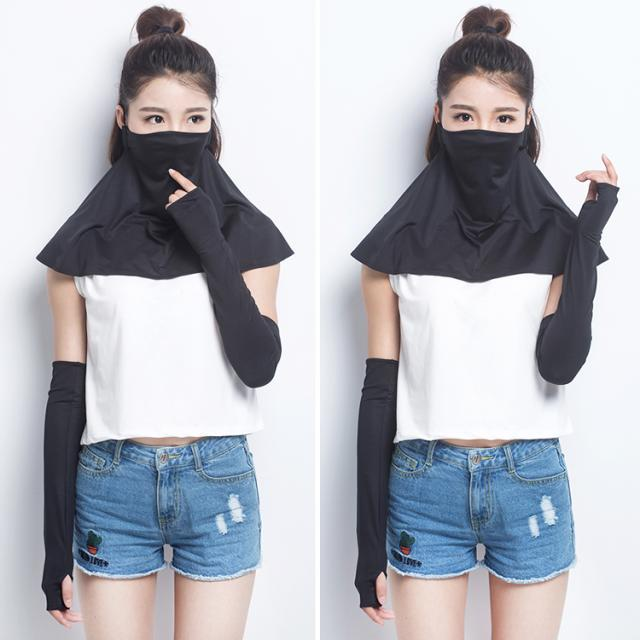mask: (126, 72, 214, 186), (440, 70, 526, 184)
